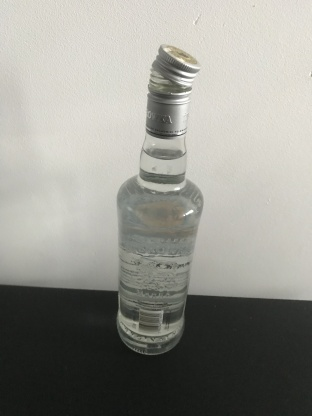nakretka: (144, 42, 201, 140)
